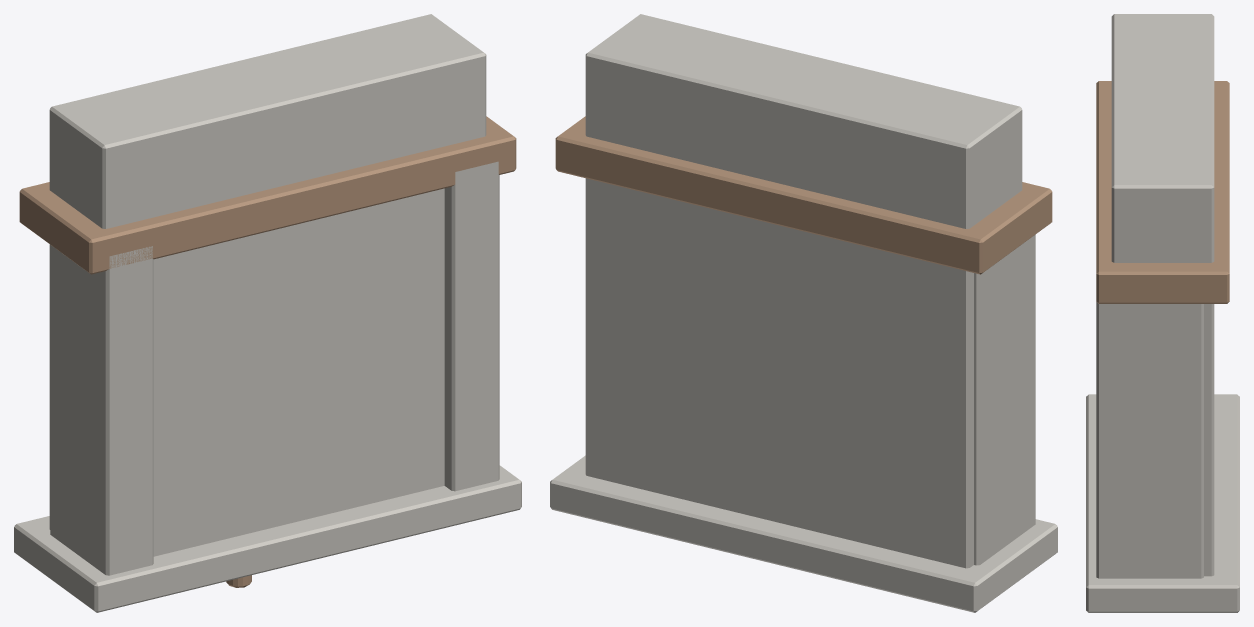
Rendered from SM_Fireplace_Living.fbx.
3 renders of one model, left to right at view 1: azimuth 30°, elevation 25°; view 2: azimuth 150°, elevation 25°; view 3: azimuth 270°, elevation 25°, orthographic. The views are drawn at different scales.
Parts seen in each view (by area): view 1: Fireplace_Living; view 2: Fireplace_Living; view 3: Fireplace_Living.
Boxes of the visible parts, x1=… form: Fireplace_Living: x1=14, y1=14, x2=521, y2=612; Fireplace_Living: x1=550, y1=14, x2=1057, y2=612; Fireplace_Living: x1=1086, y1=14, x2=1239, y2=612.
Bounding box in the file's own units: 178 × 195 × 60.
